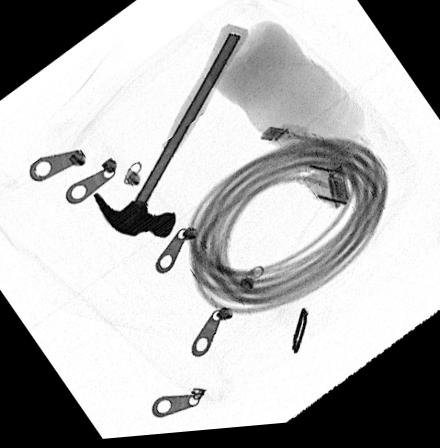Hammer: (92, 27, 249, 241)
